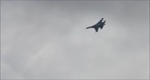maybay_muctieu: (86, 17, 107, 31)
